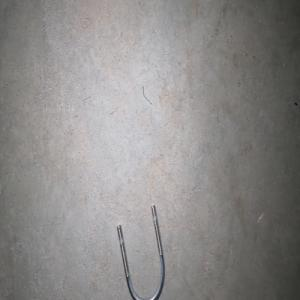ClampPart: (116, 203, 165, 300)
